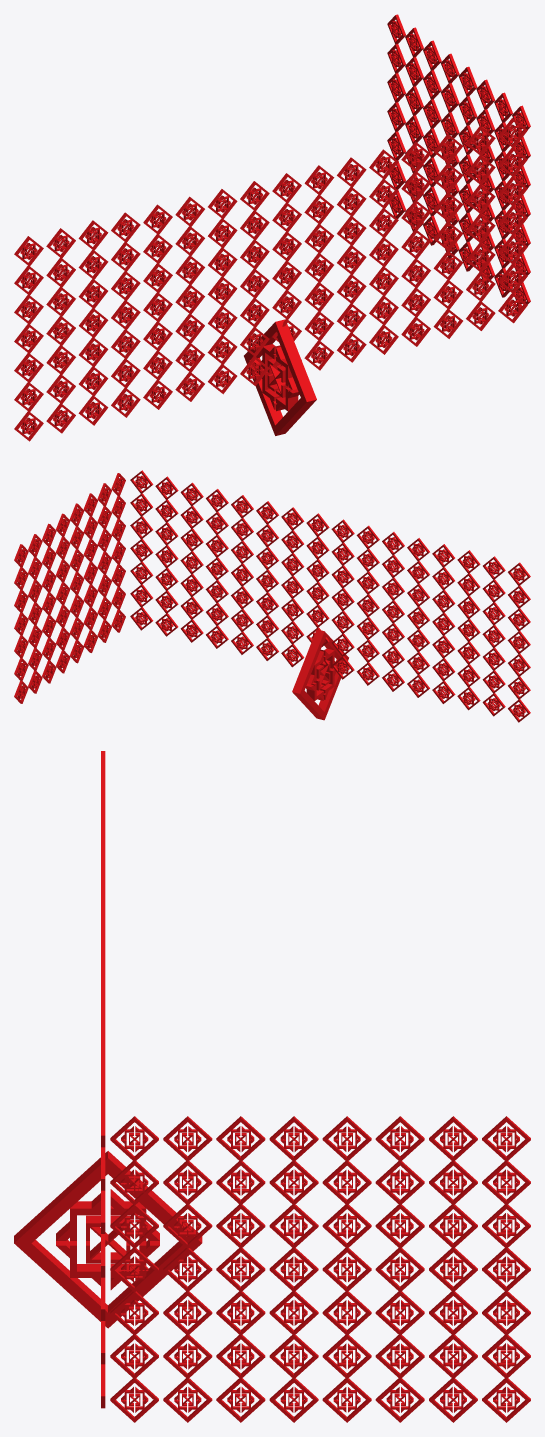
The model's file is tilestandard4.fbx.
3 renders of one model, top to bottom at view 1: azimuth 30°, elevation 25°; view 2: azimuth 150°, elevation 25°; view 3: azimuth 270°, elevation 25°, orthographic. The views are drawn at different scales.
Visible parts, largest first — view 1: Plane.003; view 2: Plane.003; view 3: Plane.003, Plane.731, Plane.892, Plane.898, Plane.648, Plane.736, Plane.933, Plane.660, Plane.665, Plane.671, Plane.654, Plane.754 (+45 smaller).
Part boxes in pixels (<box>): Plane.003: <box>244,319,316,435</box>; Plane.003: <box>292,629,348,720</box>; Plane.003: <box>14,1151,202,1328</box>; Plane.731: <box>216,1334,265,1378</box>; Plane.892: <box>216,1161,265,1205</box>; Plane.898: <box>269,1161,318,1205</box>; Plane.648: <box>482,1116,530,1161</box>; Plane.736: <box>269,1335,318,1378</box>; Plane.933: <box>216,1116,265,1161</box>; Plane.660: <box>482,1204,530,1248</box>; Plane.665: <box>482,1248,530,1292</box>; Plane.671: <box>482,1291,530,1335</box>; Plane.654: <box>482,1161,530,1205</box>; Plane.754: <box>429,1335,477,1379</box>.
Bounding box in the file's own units: 1336 × 644 × 774.
